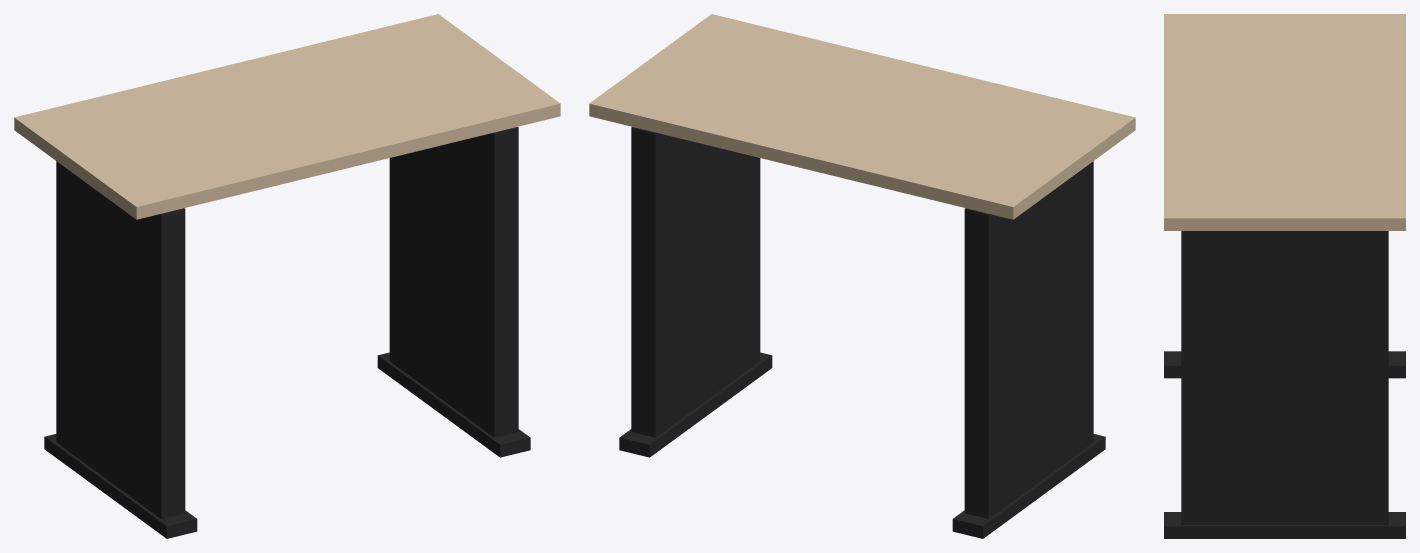
The model's file is desk_stand.glb.
3 views of the same model, side by side, from view 1: azimuth 30°, elevation 25°; view 2: azimuth 150°, elevation 25°; view 3: azimuth 270°, elevation 25° (orthographic).
Visible parts, largest first — view 1: desk_stand; view 2: desk_stand; view 3: desk_stand.
Part boxes in pixels (x1,y1,x2,y2): desk_stand: (14, 14, 560, 538); desk_stand: (589, 14, 1135, 538); desk_stand: (1164, 14, 1405, 538).
Size of the model in its own units: 1.4 by 1.07 by 0.7.
